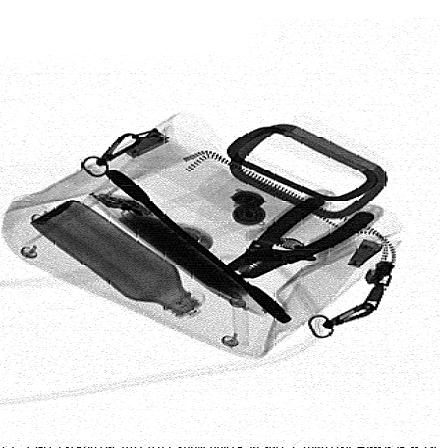Pliers: (221, 195, 377, 282)
Powerbank: (83, 194, 283, 317)
Wrench: (105, 168, 295, 322)
